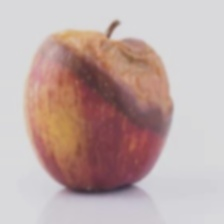apple: (16, 48, 207, 194)
